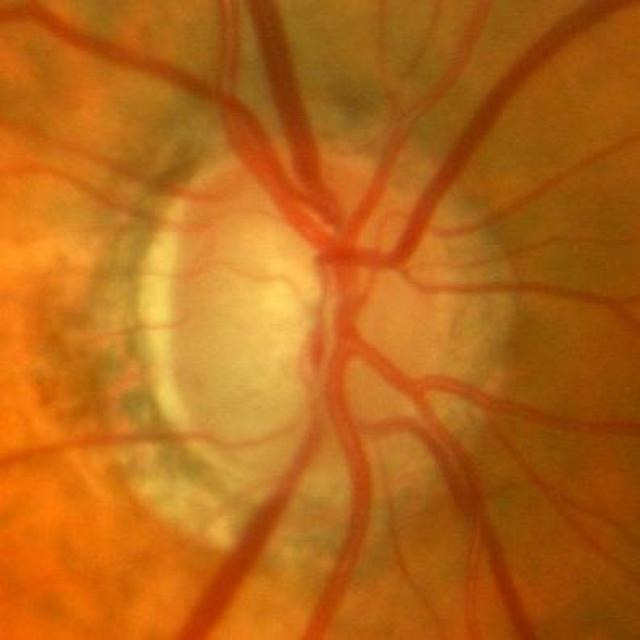OC: (258, 234, 354, 352)
OD: (147, 144, 450, 489)
